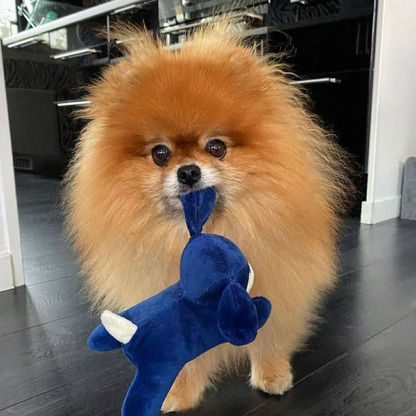Pomeranian: (60, 29, 330, 347)
